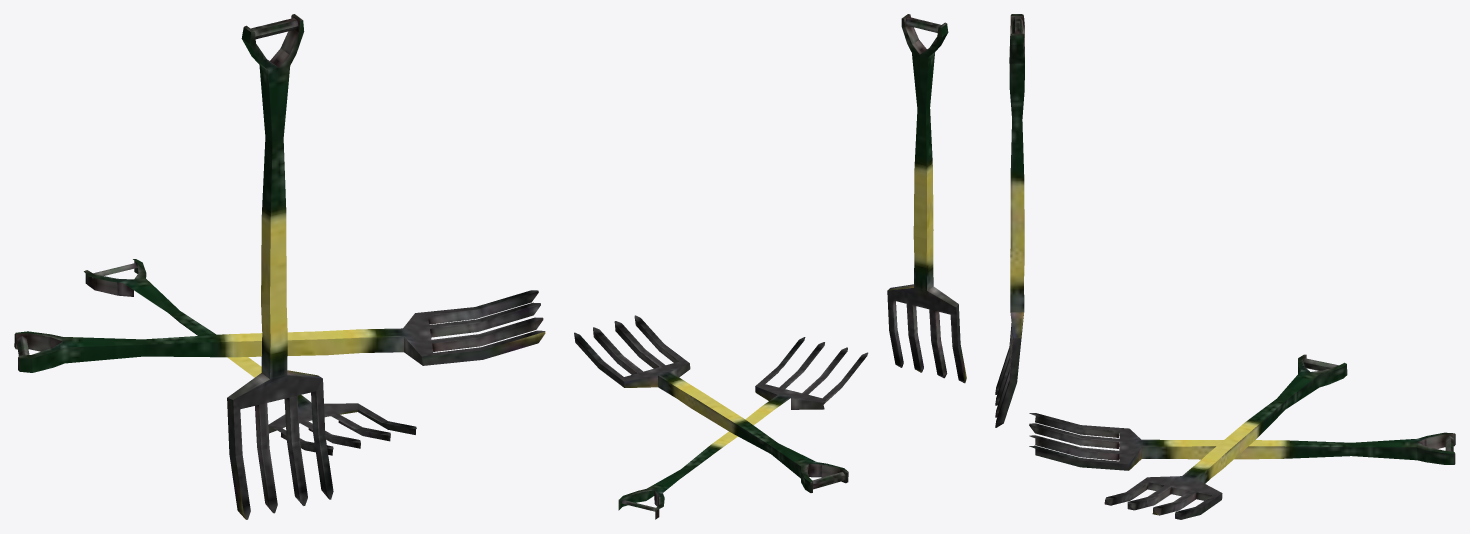
Rendered from pitchfork.fbx.
3 views of the same model, side by side, from view 1: azimuth 30°, elevation 25°; view 2: azimuth 150°, elevation 25°; view 3: azimuth 270°, elevation 25° (orthographic). The views are drawn at different scales.
Parts seen in each view (by area): view 1: Fork.001, Fork.003, Fork.002; view 2: Fork.001, Fork.003, Fork.002; view 3: Fork.002, Fork.003, Fork.001.
Part boxes in pixels (<box>): Fork.001: <box>17,14,333,519</box>; Fork.003: <box>14,290,545,372</box>; Fork.002: <box>84,259,416,455</box>; Fork.001: <box>621,14,966,511</box>; Fork.003: <box>574,315,848,492</box>; Fork.002: <box>618,337,868,519</box>; Fork.002: <box>1029,413,1455,470</box>; Fork.003: <box>1104,354,1347,519</box>; Fork.001: <box>995,14,1453,451</box>.
Size of the model in its own units: 96.5 by 101 by 108.
